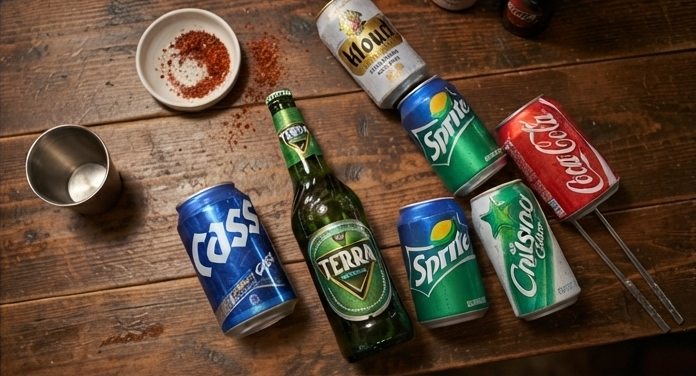beer-bottle: (280, 93, 388, 328)
beer-can: (155, 186, 270, 306), (318, 0, 433, 102)
